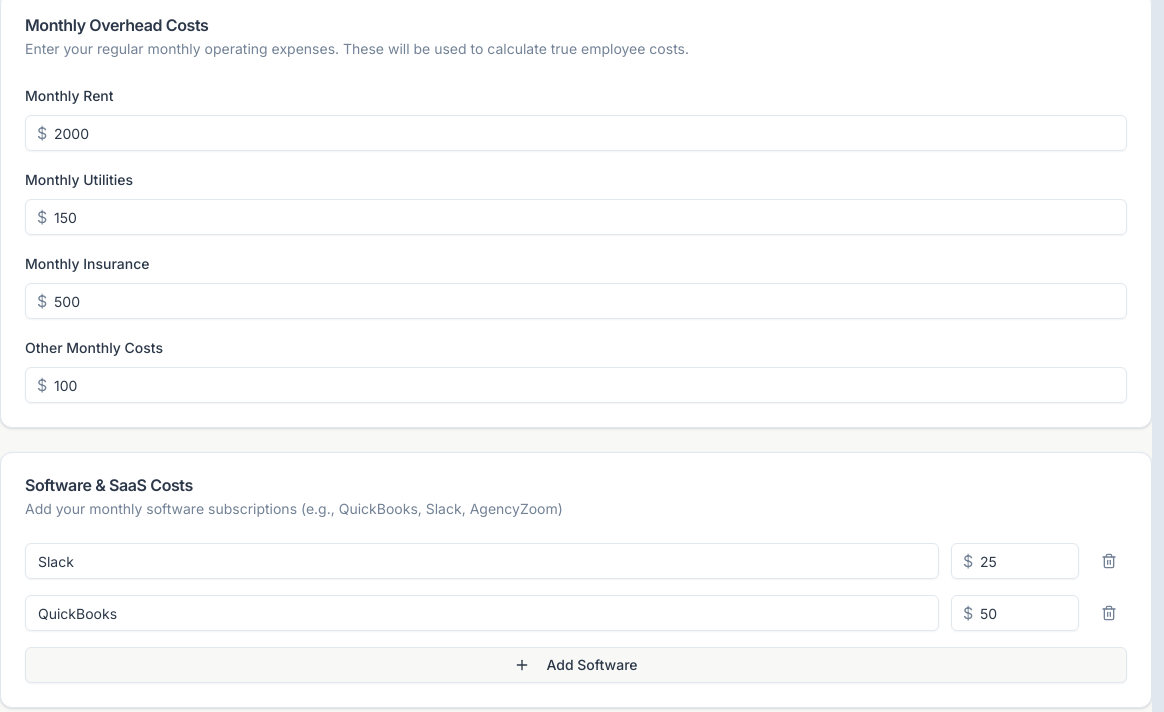
OverheadCostForm › form interactions › enables save button when form is changed
Replace the text in the number field labelled "Monthly Rent" with "2500" at (576, 133), box [25,115,1127,151]
(page scrolled)
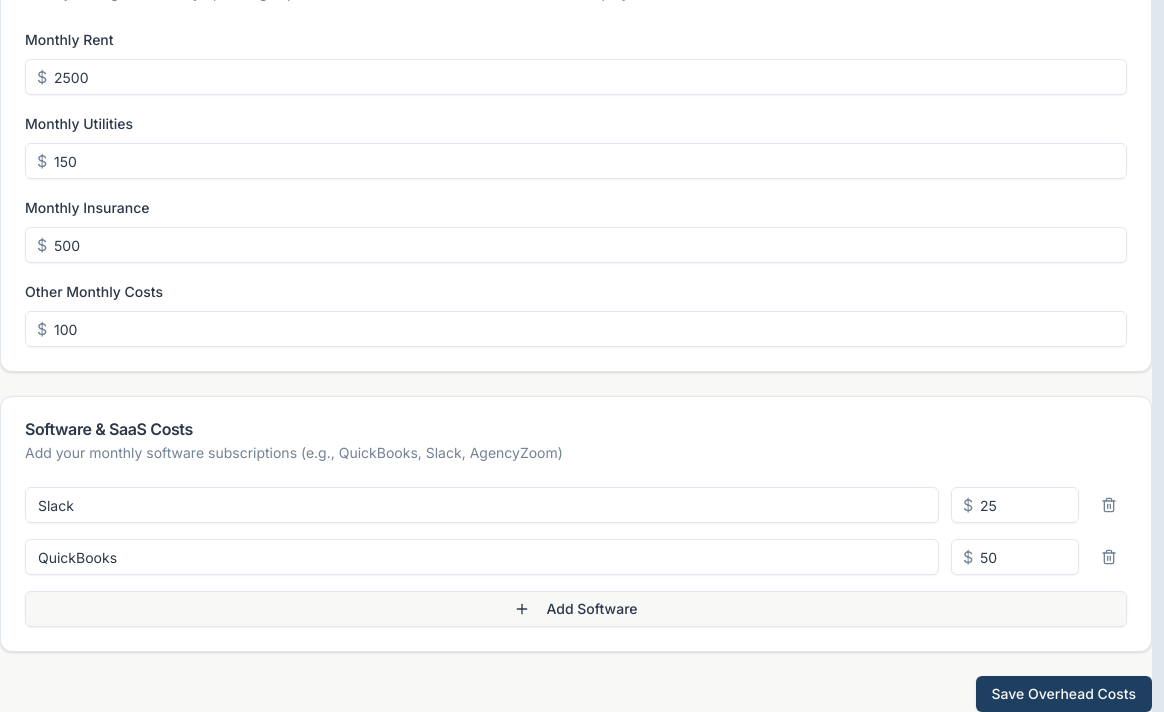
Expected: the button "Save Overhead Costs" is enabled, [976,676,1152,711]
